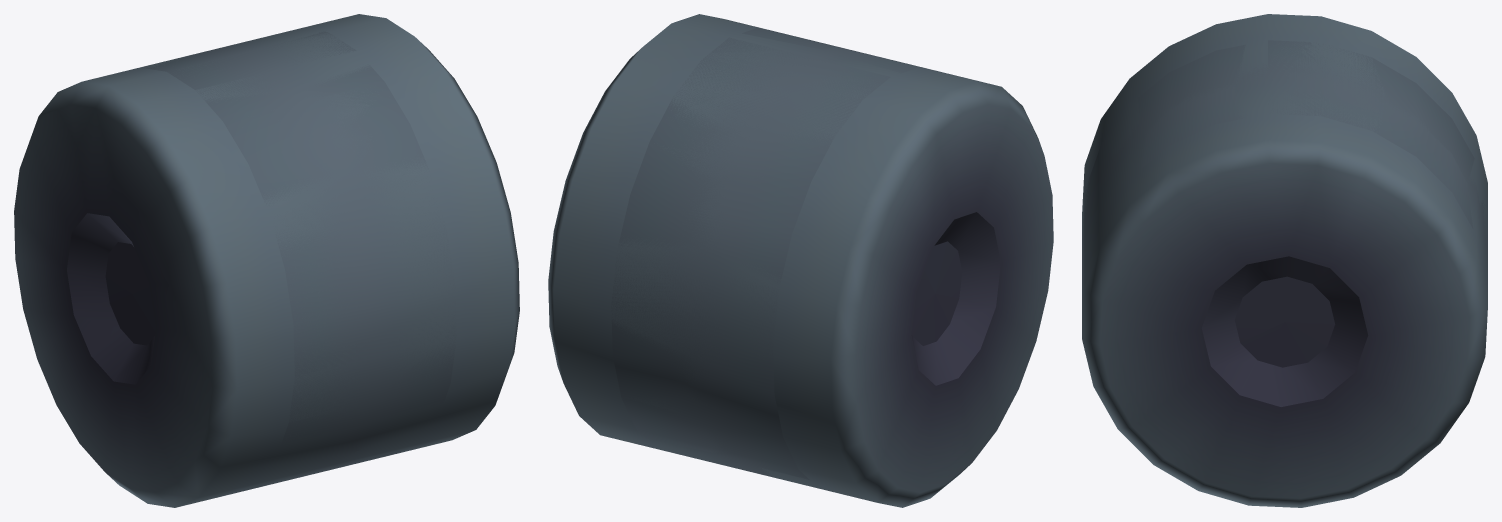
File: KartClassic_Wheels 1.fbx
3 views of the same model, side by side, from view 1: azimuth 30°, elevation 25°; view 2: azimuth 150°, elevation 25°; view 3: azimuth 270°, elevation 25° (orthographic). The views are drawn at different scales.
Visible parts, largest first — view 1: WheelsRearRight, WheelrearLeft; view 2: WheelsRearRight, WheelrearLeft; view 3: WheelrearLeft, WheelsRearRight.
Part boxes in pixels (<box>): WheelsRearRight: <box>14,31,456,507</box>; WheelrearLeft: <box>143,14,519,493</box>; WheelsRearRight: <box>611,28,1053,507</box>; WheelrearLeft: <box>548,14,940,479</box>; WheelrearLeft: <box>1082,40,1487,507</box>; WheelsRearRight: <box>1082,14,1487,270</box>.
Bounding box in the file's own units: 0.261 × 0.3163 × 0.3163.
